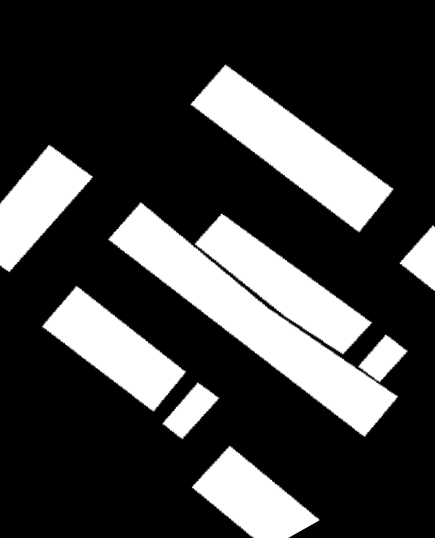parkingspot: (108, 202, 407, 437), (191, 65, 393, 232), (195, 214, 372, 354), (42, 286, 186, 411), (0, 145, 93, 272), (192, 446, 319, 538), (163, 383, 219, 439), (400, 226, 435, 291)
